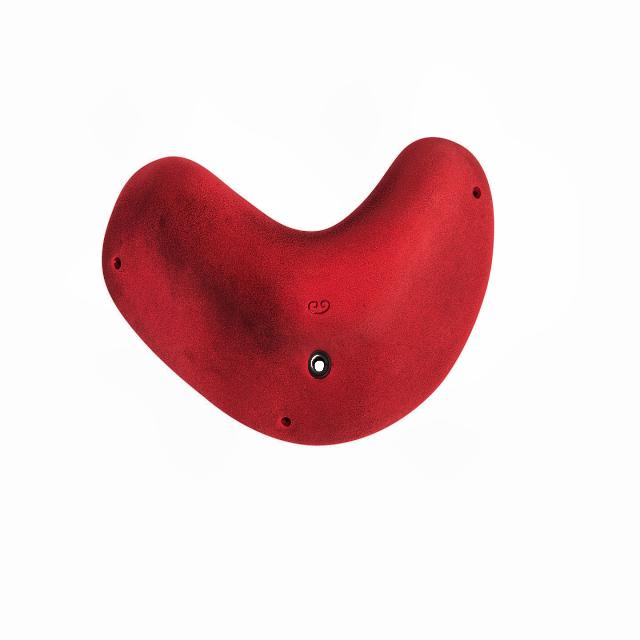Hold: (99, 134, 496, 448)
